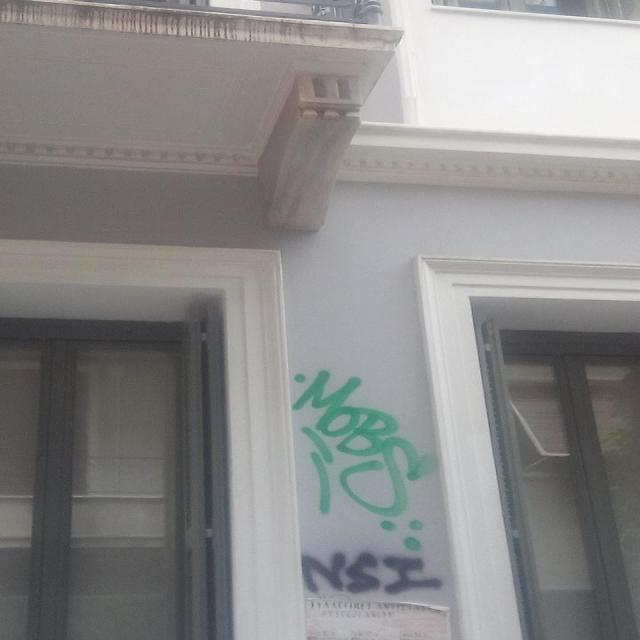nonspitting: (291, 370, 433, 550), (304, 554, 444, 598)
